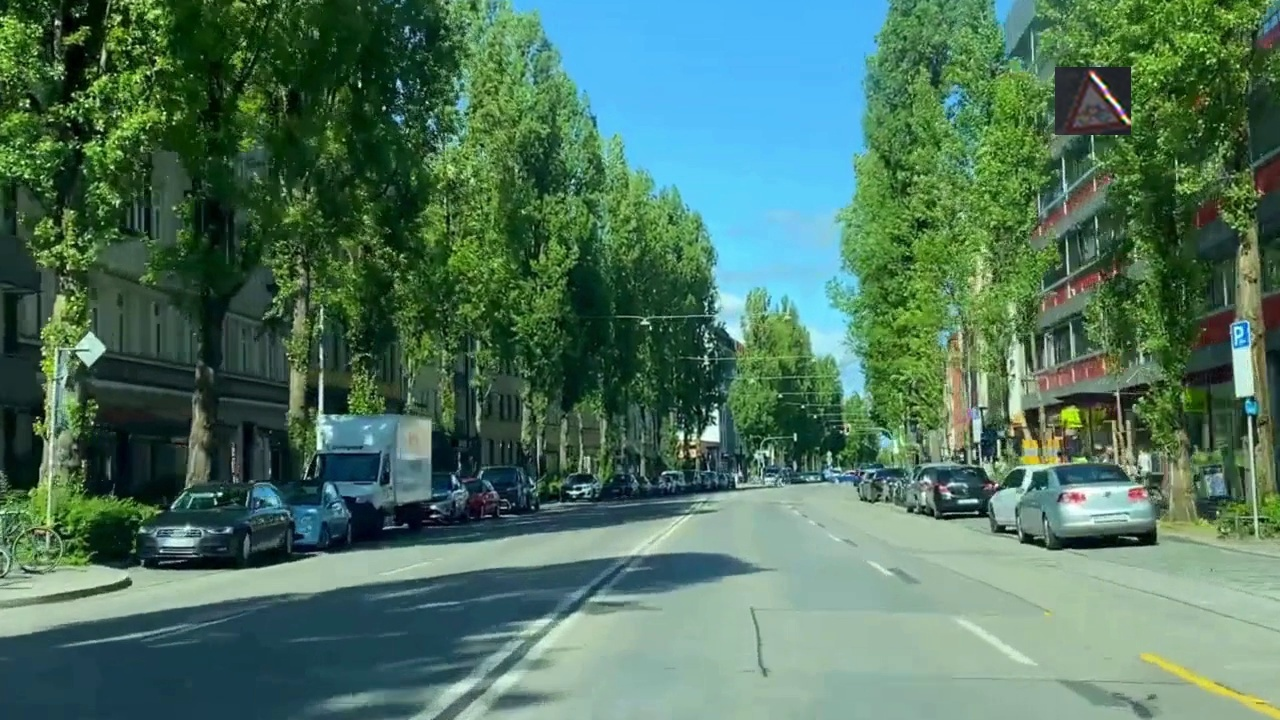Bicycles: (1055, 67, 1131, 135)
